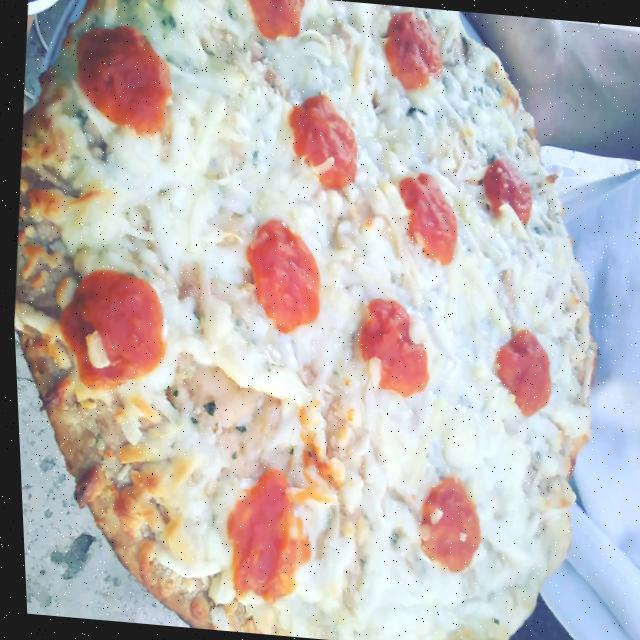pizza: (0, 0, 635, 640)
